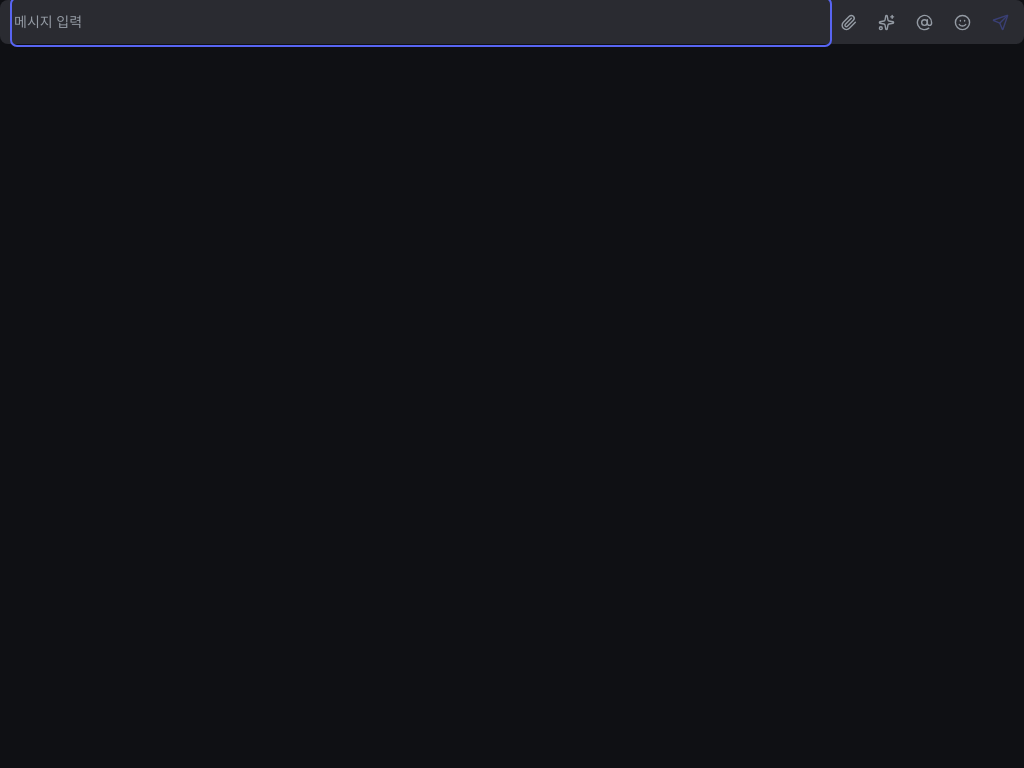
Test case: LobbyComposer › contains modal focus, restores the composer focus, and closes on room change
Step 1. Type "/vote" into the text box named "채팅 입력" → (421, 22), box [14,1,828,43]
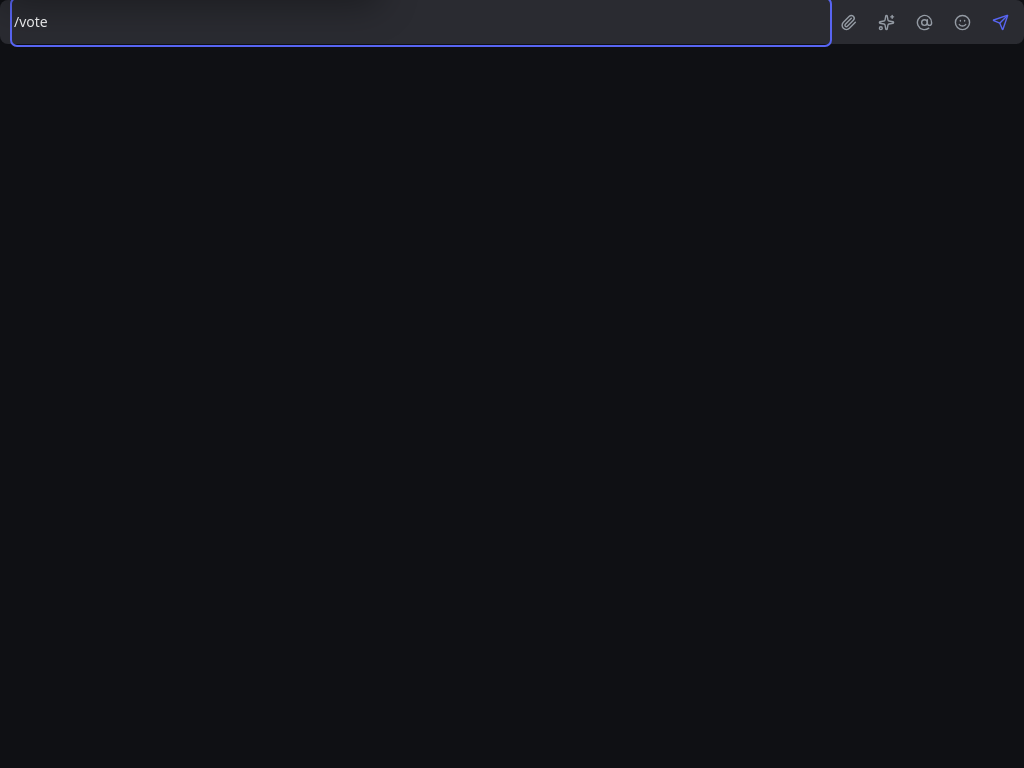
Step 2. Press Enter in the text box named "채팅 입력", box [14,1,828,43]
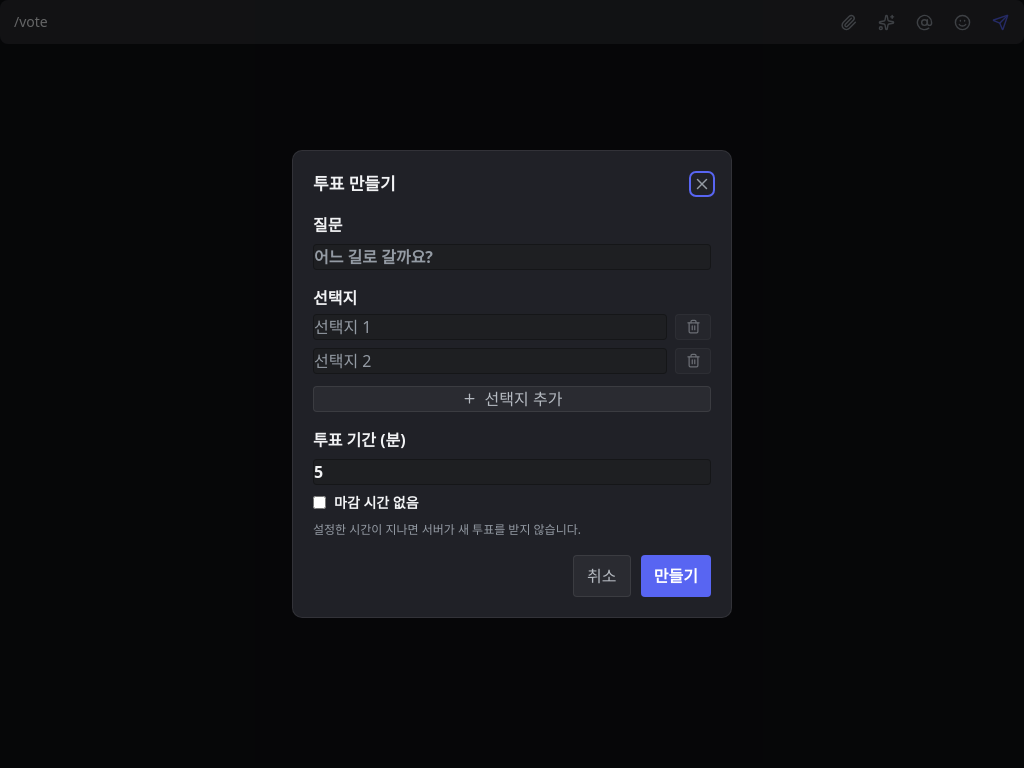
Step 3. Press Tab in the button named "투표 만들기 닫기", box [693,175,711,193]
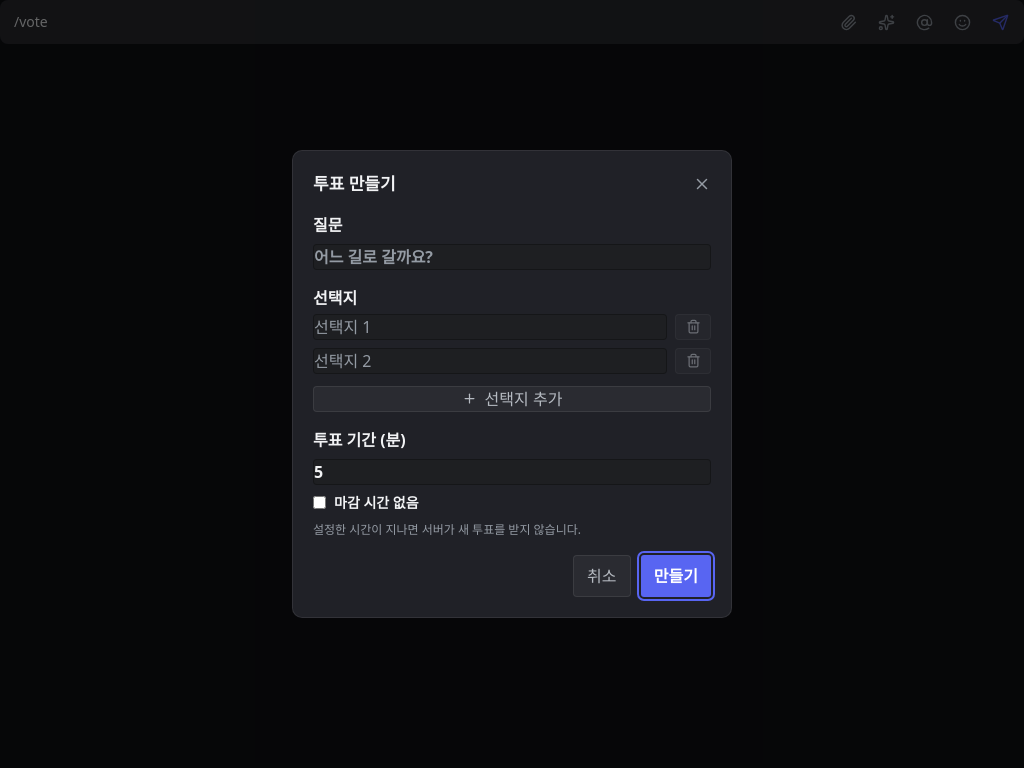
Step 4. Click the button "취소" → (602, 576), box [573,555,631,597]
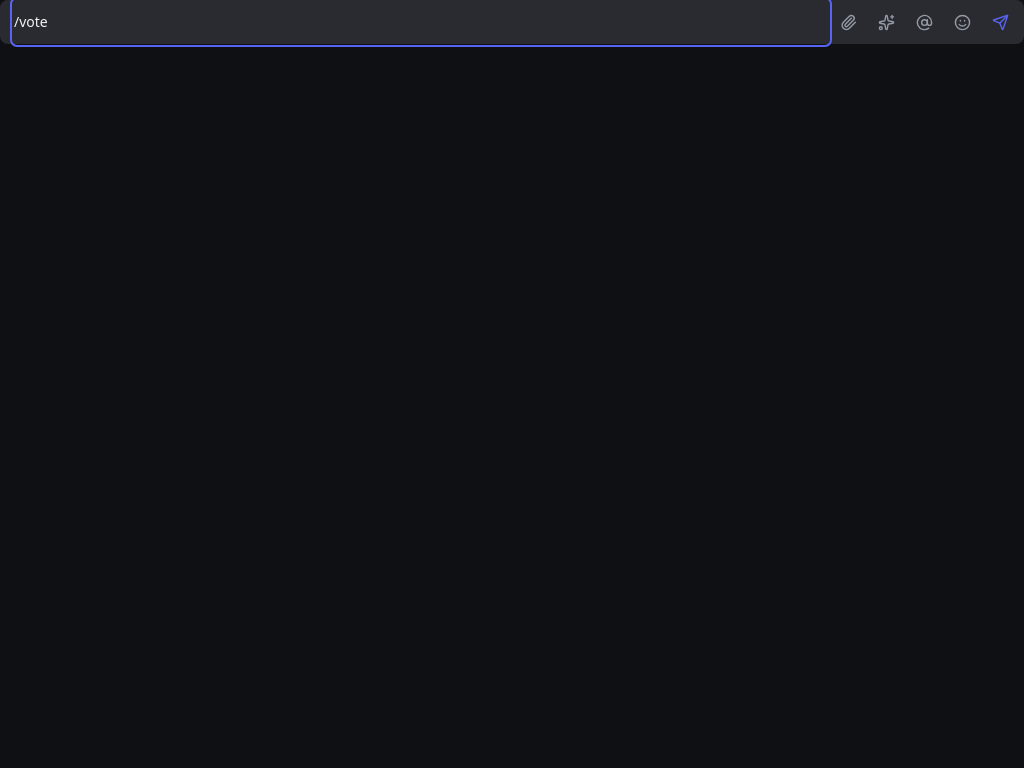
Step 5. Press Enter in the text box named "채팅 입력", box [14,1,828,43]
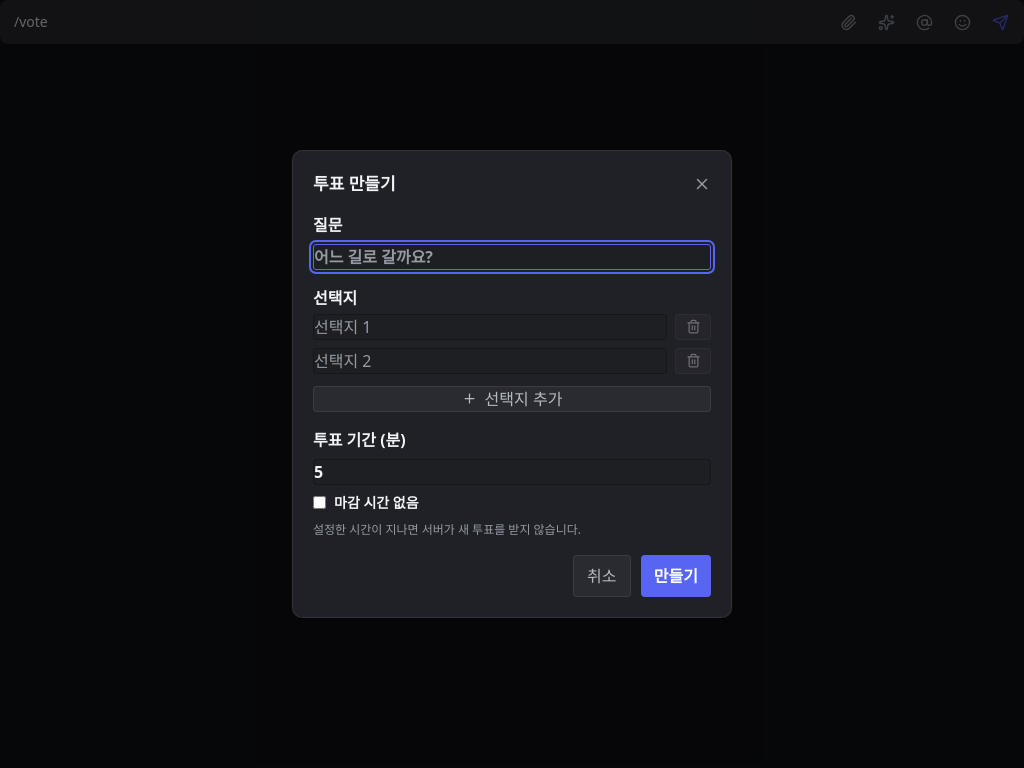
Result: the dialog "투표 만들기" is shown at [292,150,732,618]
